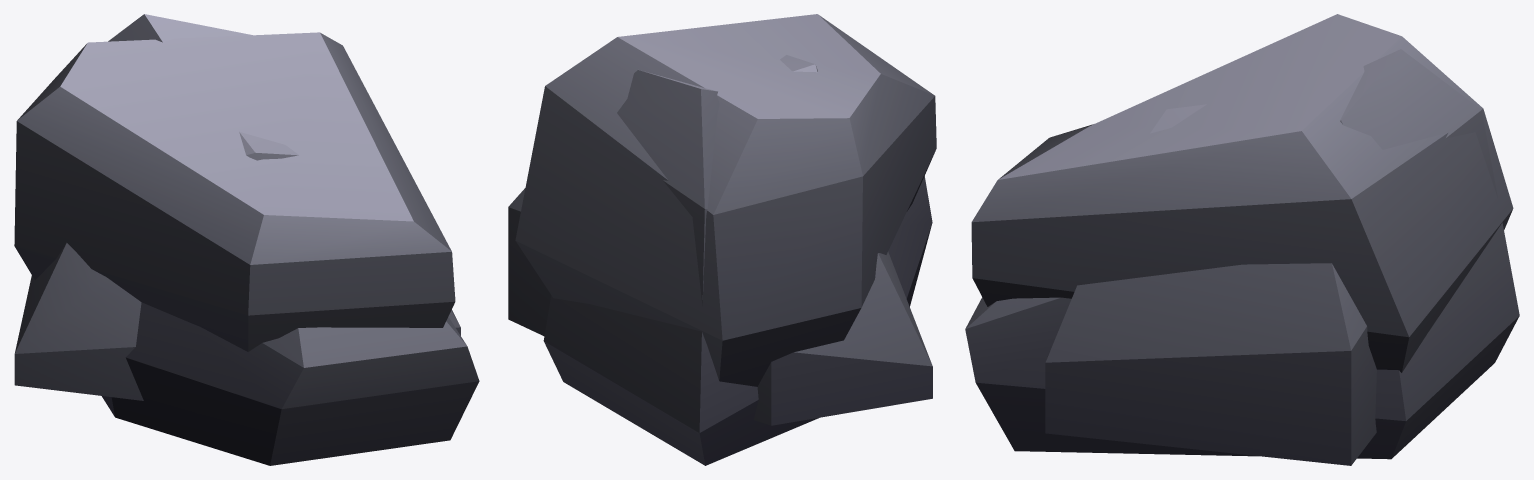
File: SM_VU_Generic_Rocks.FBX
3 views of the same model, side by side, from view 1: azimuth 30°, elevation 25°; view 2: azimuth 150°, elevation 25°; view 3: azimuth 270°, elevation 25° (orthographic). The views are drawn at different scales.
Parts seen in each view (by area): view 1: Rocks_Vulcanic (×3); view 2: Rocks_Vulcanic (×3); view 3: Rocks_Vulcanic (×3).
Part boxes in pixels (left/top/right/bottom): Rocks_Vulcanic (×3): left=14, top=14, right=479, bottom=465; Rocks_Vulcanic (×3): left=508, top=14, right=936, bottom=465; Rocks_Vulcanic (×3): left=965, top=14, right=1519, bottom=465.
Size of the model in its own units: 95.26 by 75.41 by 112.
